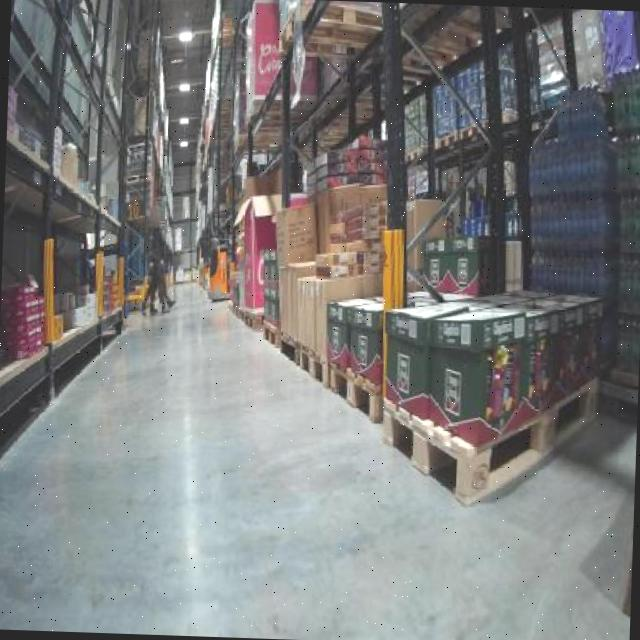pallet: (376, 396, 614, 518), (318, 354, 392, 434), (292, 333, 332, 383), (255, 314, 282, 351)
